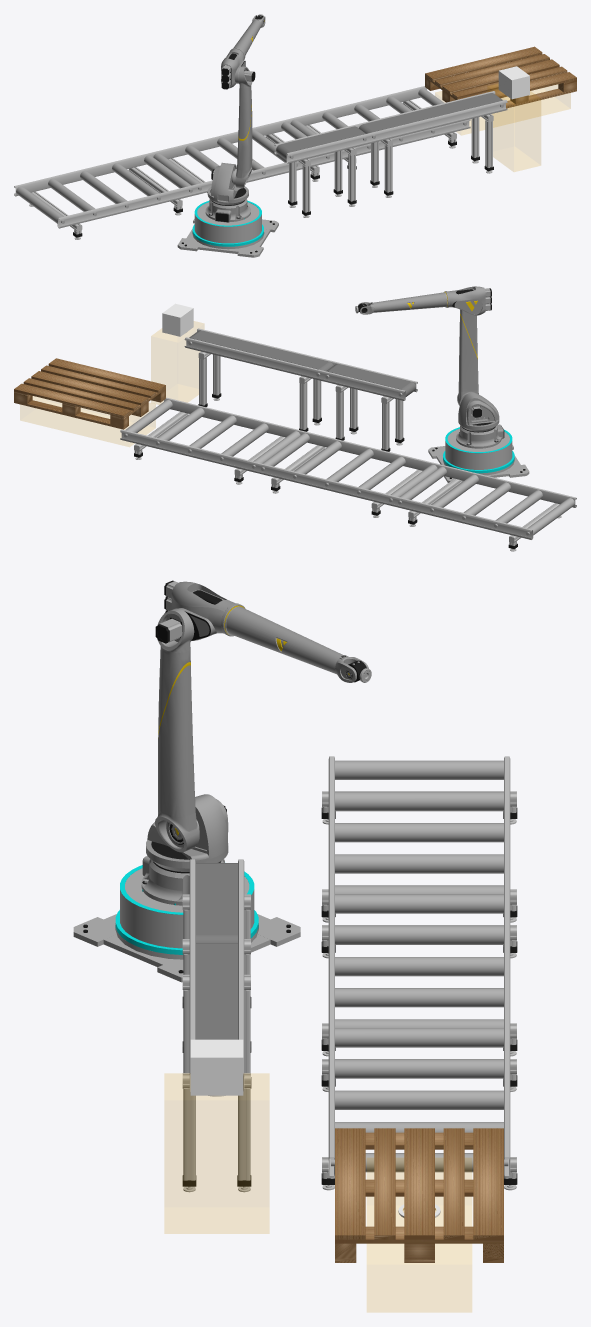
3 renders of one model, top to bottom at view 1: azimuth 30°, elevation 25°; view 2: azimuth 150°, elevation 25°; view 3: azimuth 270°, elevation 25°, orthographic. The views are drawn at different scales.
Parts seen in each view (by area): view 1: Mesh [03Mg], Mesh [041g], Mesh [02Hg], Mesh [00eg], Mesh [03Yg], Mesh [02Cg], Mesh [00fg], Mesh [04Og], Mesh [02og], Mesh [01pg], Mesh [04Dg], Mesh [01Hg] (+31 smaller); view 2: Mesh [03Mg], Mesh [03Yg], Mesh [041g], Mesh [02Ig], Mesh [02og], Mesh [00fg], Mesh [01Hg], Mesh [04Og], Mesh [02Cg], Mesh [00eg], Mesh [01Gg], Mesh [02ng] (+37 smaller); view 3: Mesh [03Mg], Mesh [03Yg], Mesh [04Og], Mesh [02Cg], Mesh [018g], Mesh [01pg], Mesh [01qg], Mesh [01tg], Mesh [014g], Mesh [016g], Mesh [01Ag], Mesh [01gg] (+29 smaller).
Boxes of the visible parts, x1,y1,x2,y2 form: Mesh [03Mg]: (488, 84, 540, 171); Mesh [041g]: (194, 202, 261, 243); Mesh [02Hg]: (368, 100, 507, 143); Mesh [00eg]: (57, 185, 196, 228); Mesh [03Yg]: (435, 85, 570, 134); Mesh [02Cg]: (363, 93, 500, 131); Mesh [00fg]: (14, 152, 152, 196); Mesh [04Og]: (237, 85, 252, 170); Mesh [02og]: (289, 86, 426, 125); Mesh [01pg]: (425, 46, 542, 80); Mesh [04Dg]: (207, 162, 248, 205); Mesh [01Hg]: (152, 119, 289, 159); Mesh [03Mg]: (151, 321, 203, 404); Mesh [03Yg]: (20, 396, 155, 446); Mesh [041g]: (445, 428, 512, 469); Mesh [02Ig]: (184, 337, 323, 380); Mesh [02og]: (120, 429, 258, 472); Mesh [00fg]: (394, 496, 533, 539); Mesh [01Hg]: (257, 463, 395, 506); Mesh [04Og]: (458, 309, 478, 391); Mesh [02Cg]: (191, 330, 328, 369); Mesh [00eg]: (438, 464, 576, 507); Mesh [01Gg]: (301, 431, 439, 470); Mesh [02ng]: (164, 397, 301, 437); Mesh [03Mg]: (165, 1074, 268, 1233); Mesh [03Yg]: (367, 1158, 471, 1311); Mesh [04Og]: (158, 646, 195, 816); Mesh [02Cg]: (196, 944, 237, 1039); Mesh [018g]: (335, 791, 503, 811); Mesh [01pg]: (473, 1128, 503, 1239); Mesh [01qg]: (404, 1128, 434, 1239); Mesh [01tg]: (335, 1128, 365, 1239); Mesh [014g]: (335, 854, 503, 873); Mesh [016g]: (335, 823, 503, 842); Mesh [01Ag]: (335, 760, 503, 779); Mesh [01gg]: (335, 988, 503, 1007).
Size of the model in its own units: 5.7 by 1.84 by 2.1.
15 materials, 1 textured.
